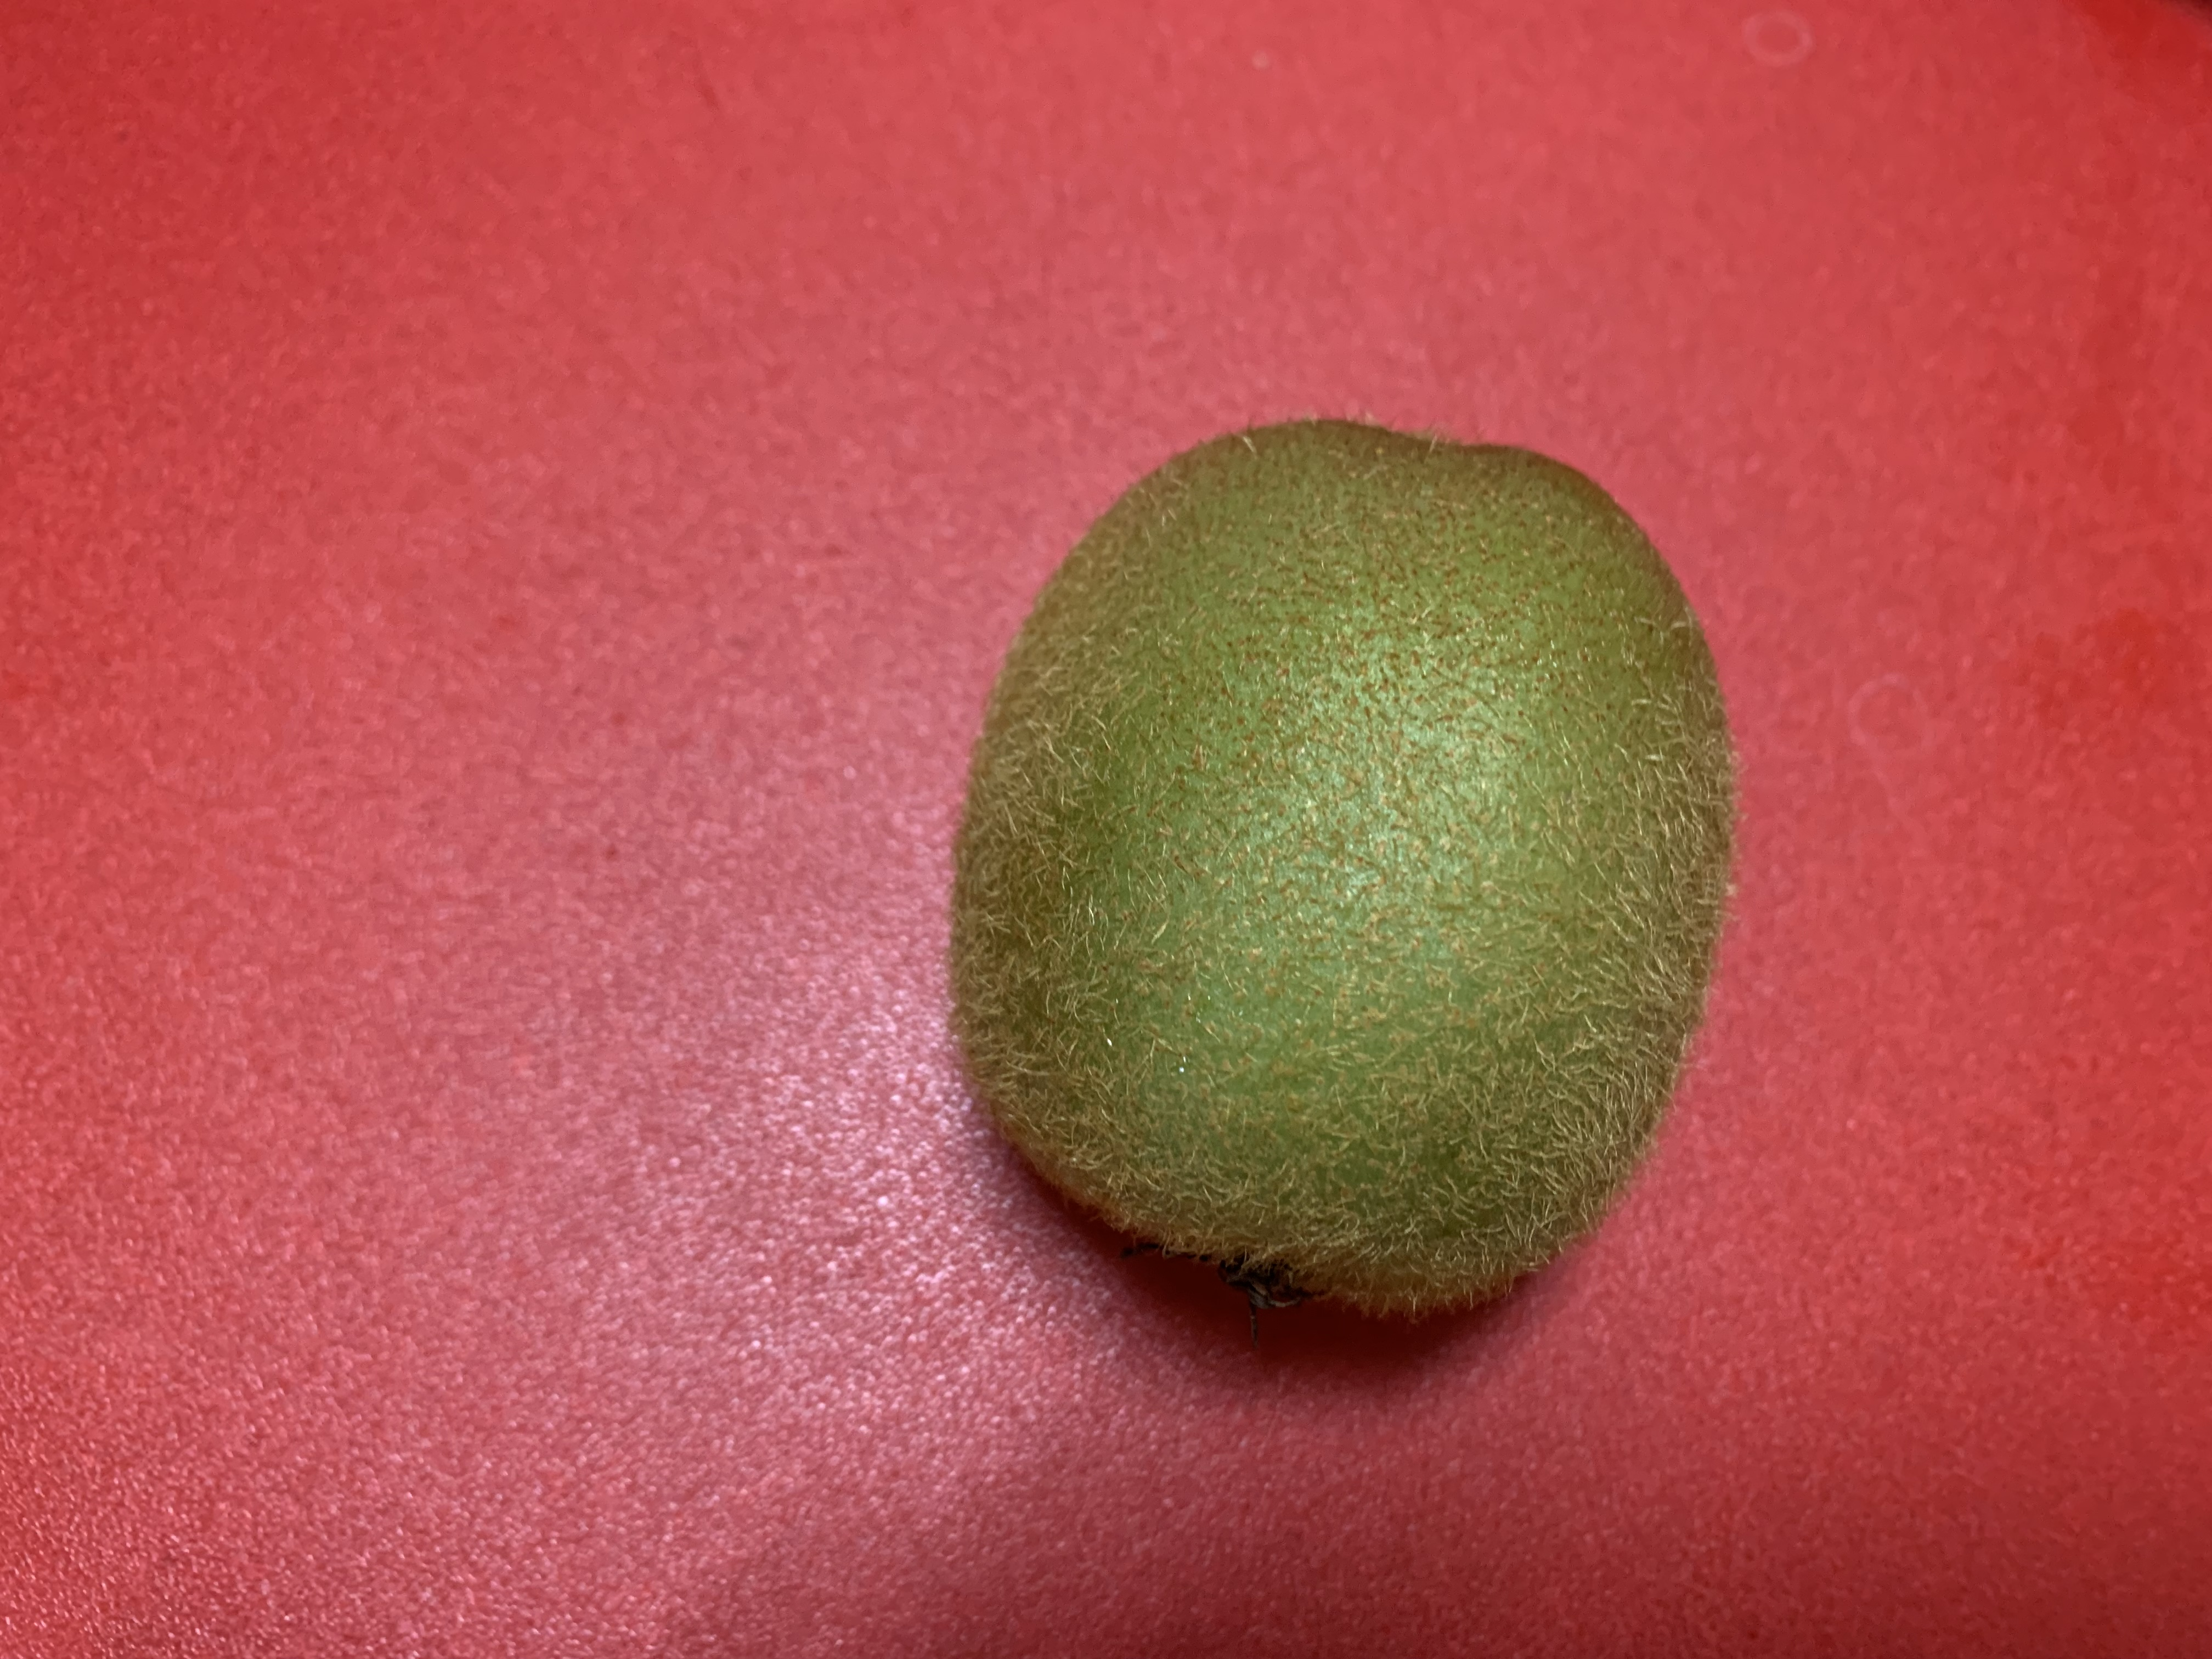kiwi: (946, 415, 1738, 1316)
